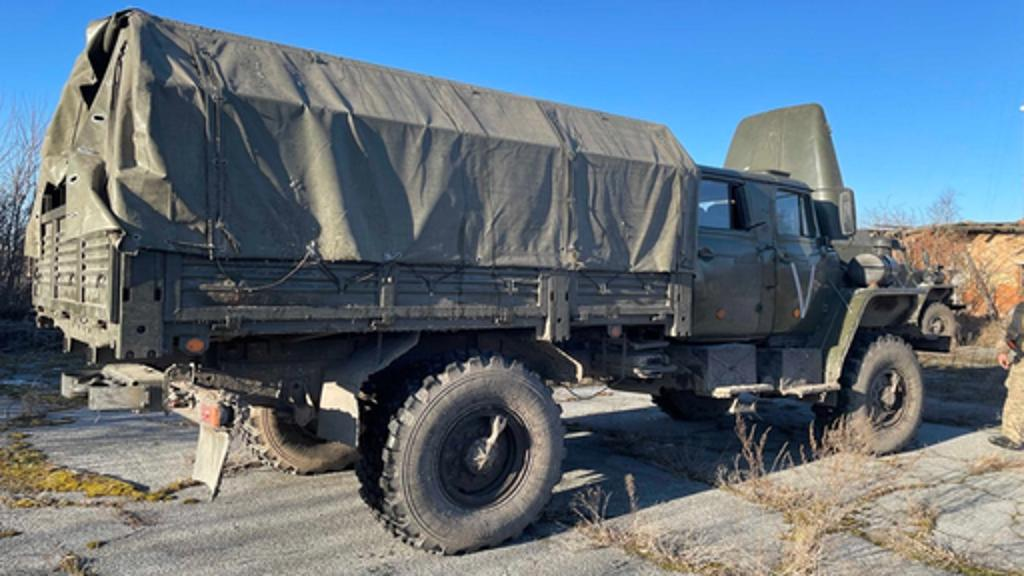TRUCK: (16, 4, 962, 556)
